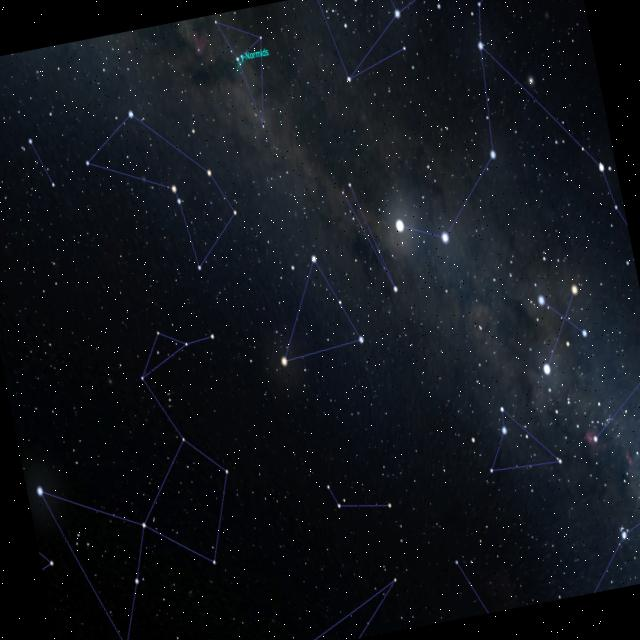Triangulum Australe: (246, 240, 374, 380)
